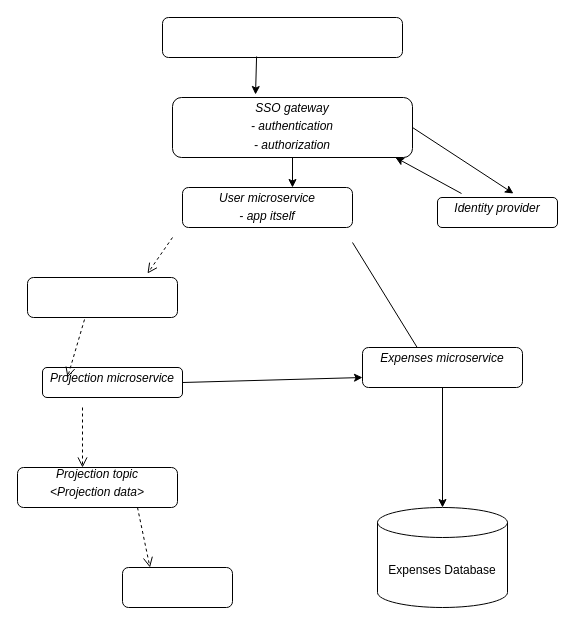
Some shapes in this 575 by 625 pixel diagram are drawn without their labels. Here are the shapes that lost their labels. From the top down, the box of each, then its label:
(162, 16, 402, 58): User enters the app on Android App
(26, 276, 178, 318): Request Queue <projection> request
(122, 566, 232, 608): AWS with ML model
